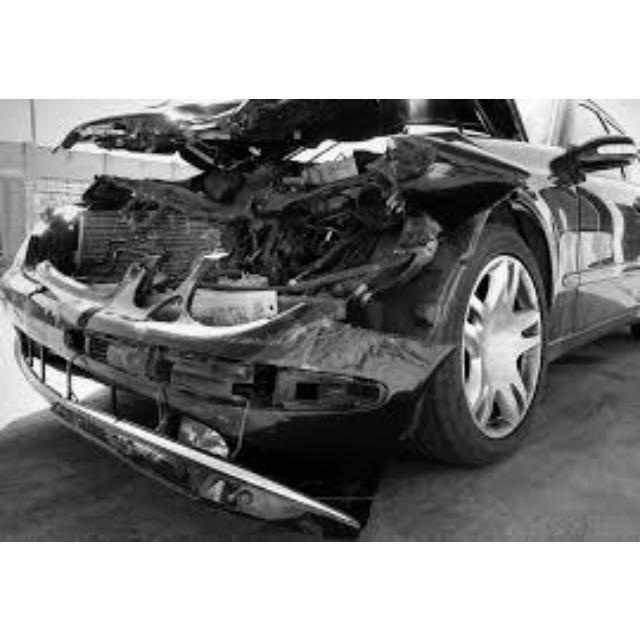fender-dent: (417, 129, 547, 221)
front-bumper-dent: (10, 265, 294, 442)
